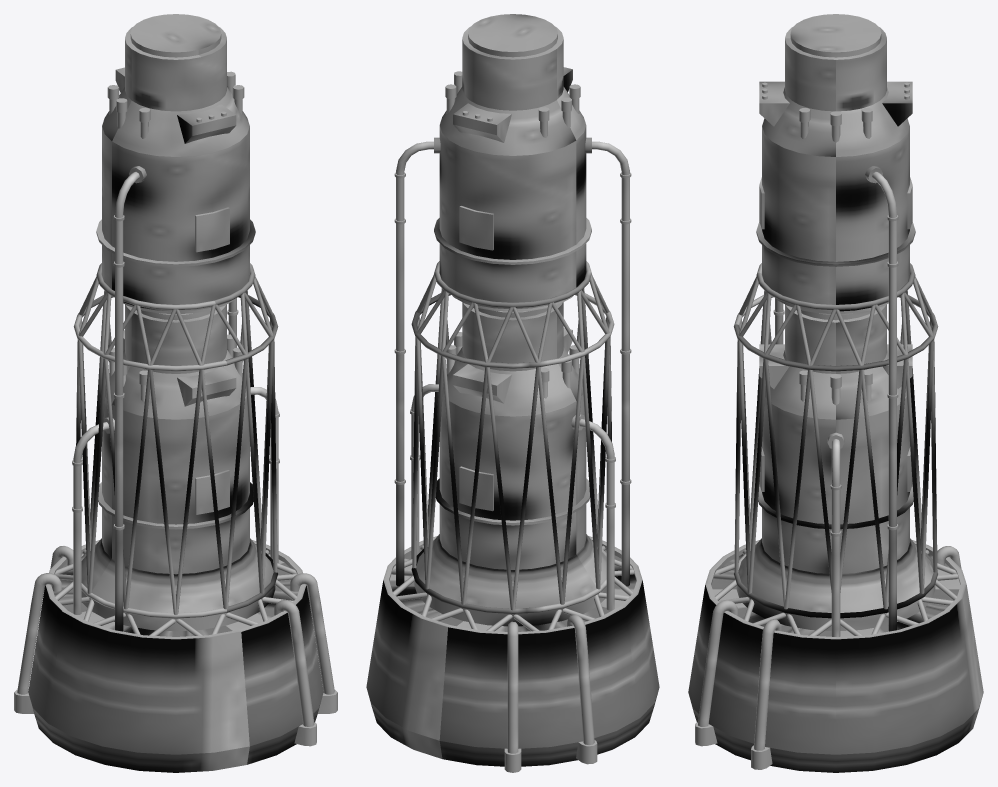
File: reactor.fbx
3 views of the same model, side by side, from view 1: azimuth 30°, elevation 25°; view 2: azimuth 150°, elevation 25°; view 3: azimuth 270°, elevation 25° (orthographic).
Parts seen in each view (by area): view 1: mesh; view 2: mesh; view 3: mesh.
Boxes of the visible parts, x1=… form: mesh: x1=14, y1=14, x2=337, y2=772; mesh: x1=366, y1=14, x2=659, y2=772; mesh: x1=688, y1=14, x2=983, y2=772.
Size of what is drawn, in the model's own units: 1.3 by 3.3 by 1.3.
